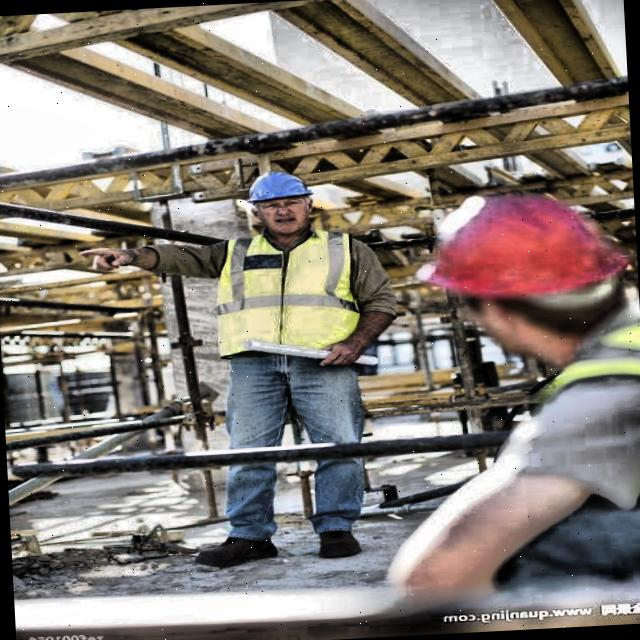helmet: (414, 177, 634, 376), (238, 160, 320, 240)
